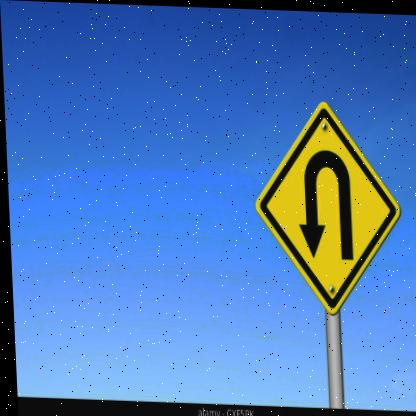U-turn: (251, 90, 407, 317)
